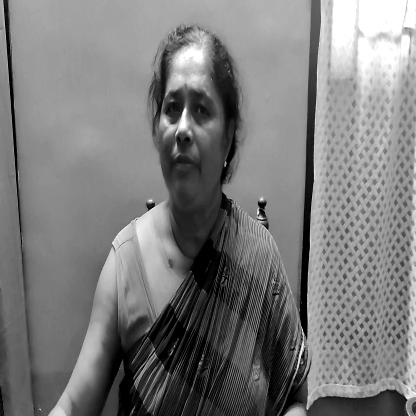Normal: (149, 29, 239, 224)
